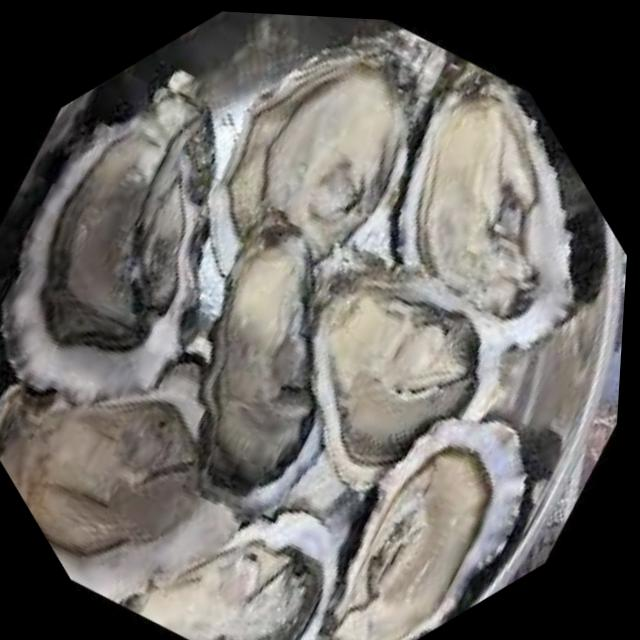Oyster-Open: (2, 74, 236, 405), (226, 39, 417, 278), (323, 423, 529, 640), (385, 70, 543, 322), (311, 265, 484, 494), (0, 384, 211, 556), (197, 221, 318, 508), (139, 513, 341, 640)
